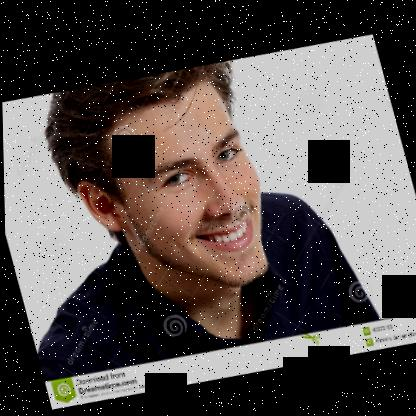Male: (54, 63, 284, 315)
